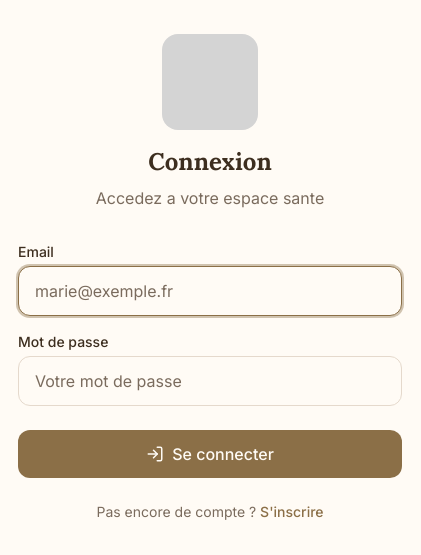
Test: LoginPage › shows error on invalid credentials
The width and height of the screenshot is (421, 555).
Type "wrong@email.fr" into the field labelled "Email".
click(210, 291); type("wrong@email.fr")  # box top-left (18, 266), bottom-right (402, 316)
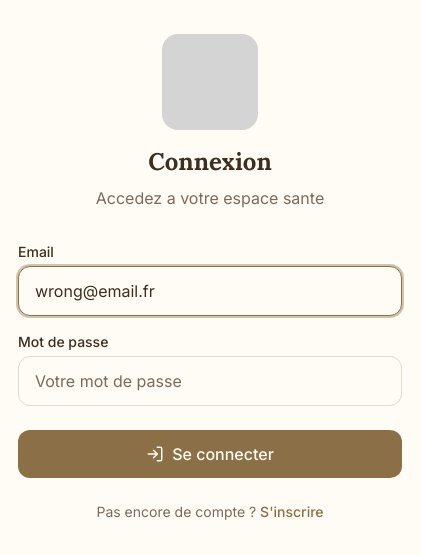
Type "wrongpass" into the password field labelled "Mot de passe".
click(210, 381); type("wrongpass")  # box top-left (18, 356), bottom-right (402, 406)
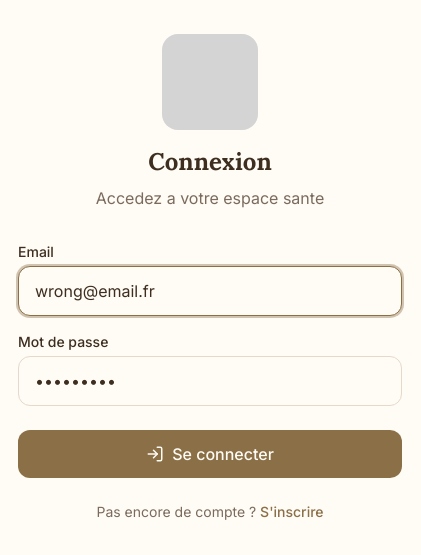
Click the button "Se connecter".
click(210, 454)  # box top-left (18, 430), bottom-right (402, 478)
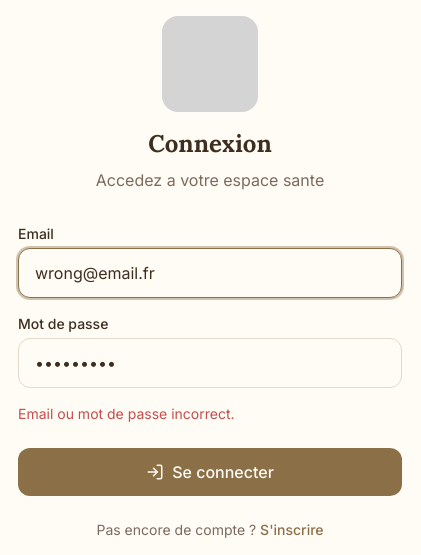
expect the message reads "Email ou mot de passe incorrect.": met, box top-left (18, 405), bottom-right (234, 422)
